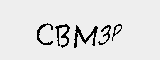В: (52, 23, 71, 49)
З: (98, 22, 112, 47)
М: (73, 23, 98, 49)
Р: (110, 22, 124, 46)
С: (34, 21, 55, 47)
